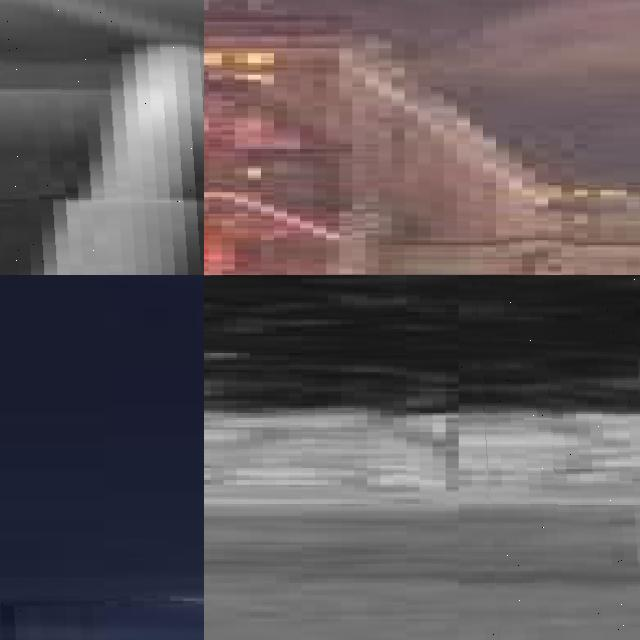street light: (458, 275, 640, 640), (0, 0, 204, 275)
